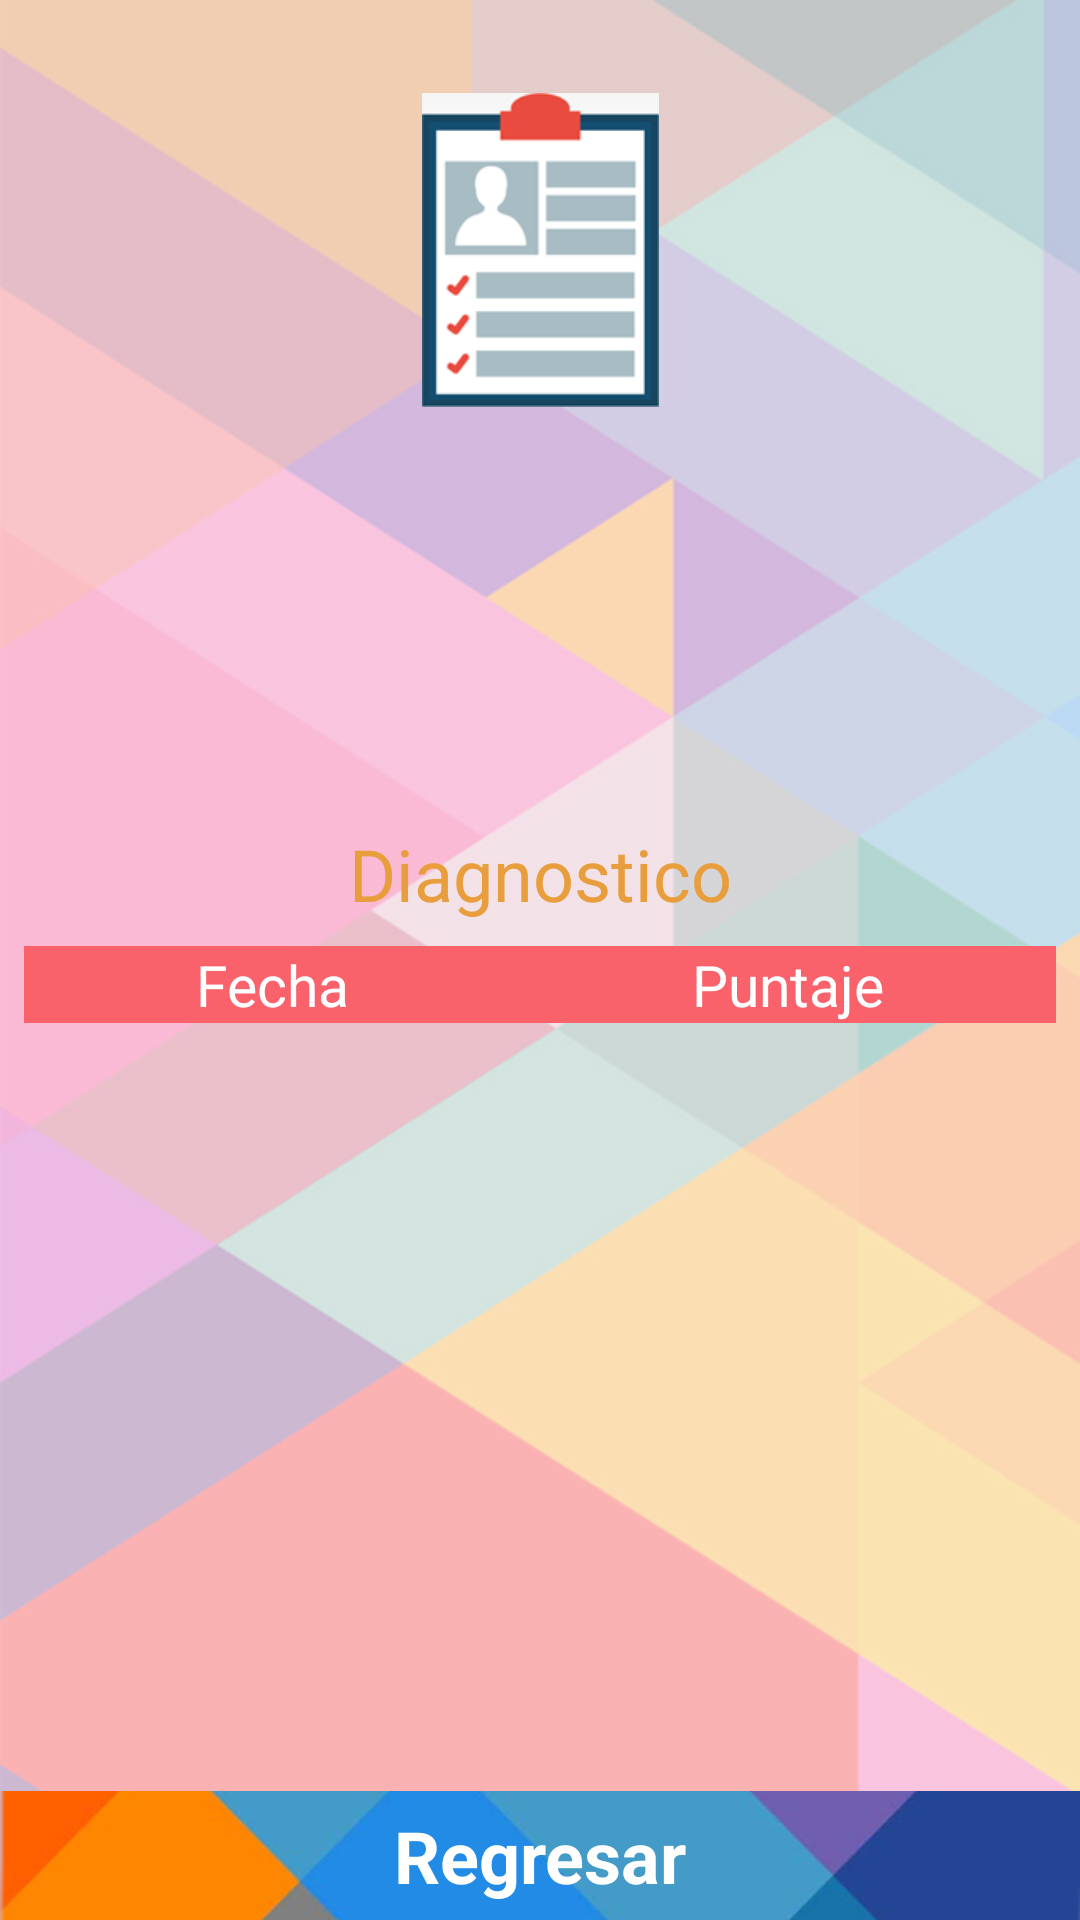

Icon click points for this 1080x1920 phone screenshot, format [x,y]:
diagnostico: [540,250]
